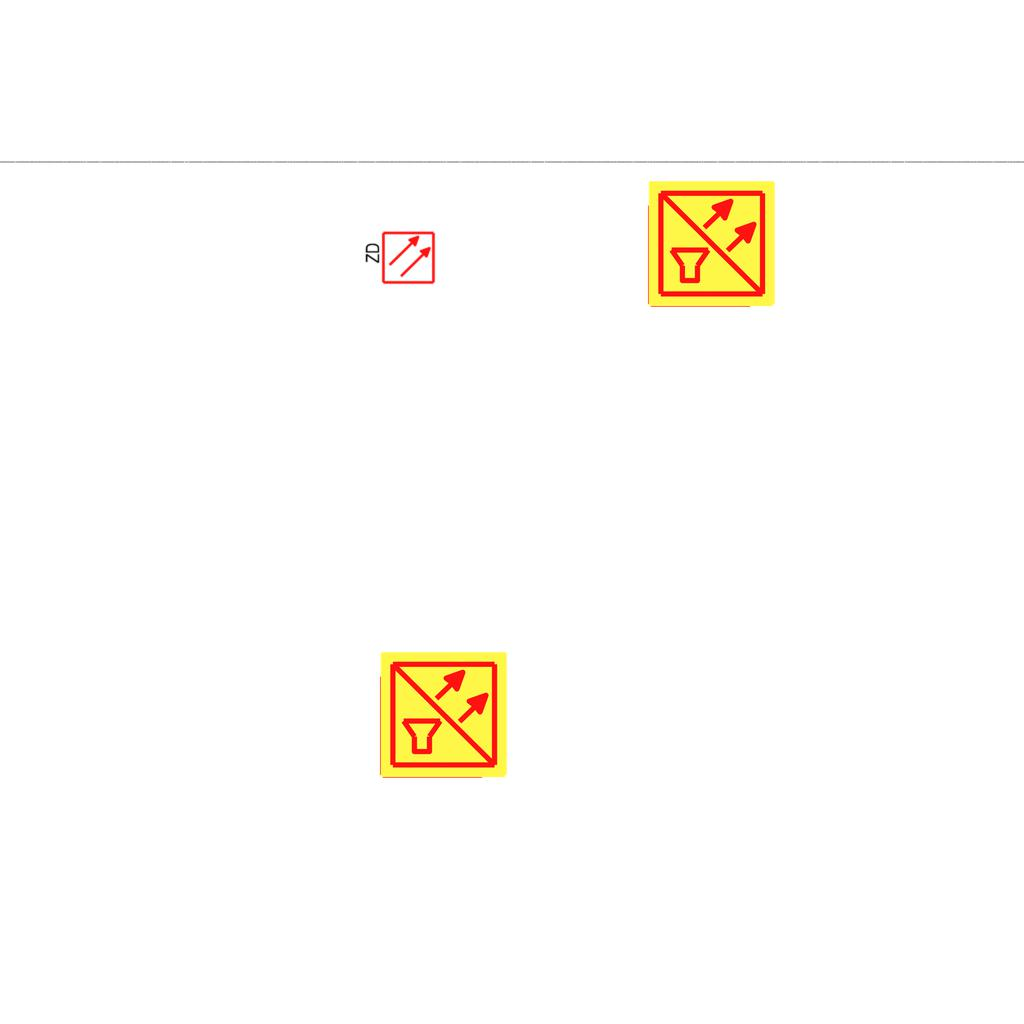OKW_Multisensormelder_(Kombination_optischer_Rauch-Kahlenmonoxid_Waerme-Melder): (378, 649, 510, 781), (646, 178, 778, 310)
ZD_Melder_in_Zwischendecke_mit_Revisionsoeffnung_mind_40_x_40_cm: (362, 230, 436, 287)
